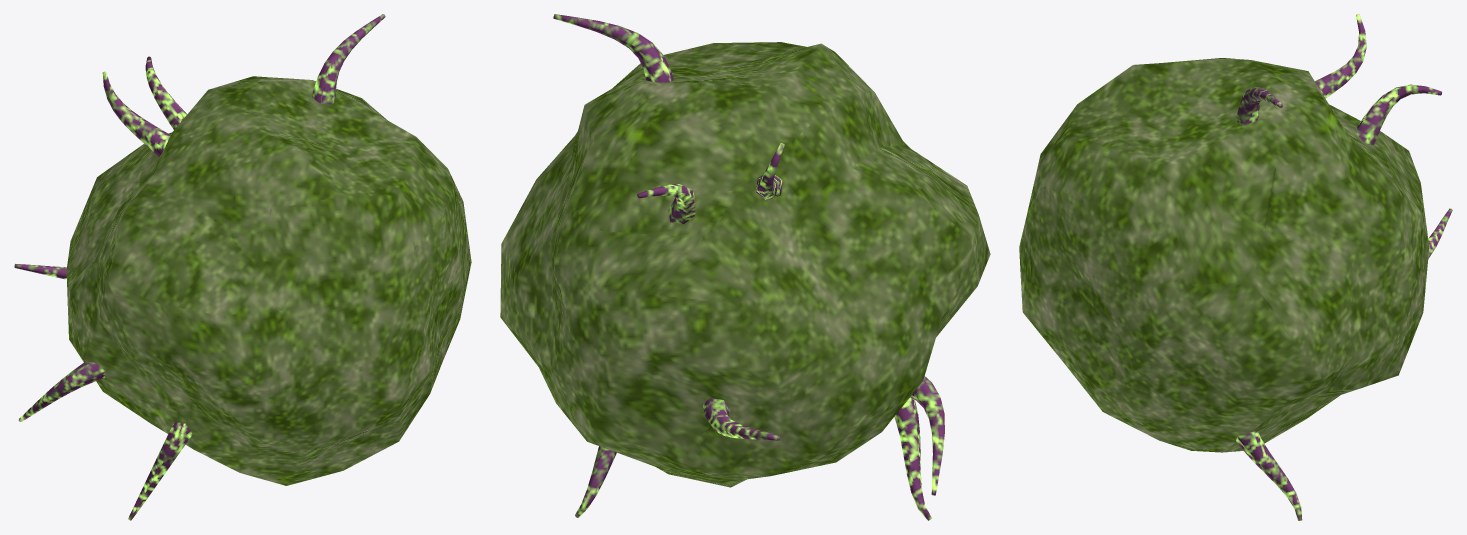
The model's file is spore.glb.
The picture shows the model from 3 angles, left to right: view 1: azimuth 30°, elevation 25°; view 2: azimuth 150°, elevation 25°; view 3: azimuth 270°, elevation 25°; orthographic projection. The views are drawn at different scales.
Parts seen in each view (by area): view 1: spore_aura, spore_tentacles; view 2: spore_aura, spore_tentacles; view 3: spore_aura, spore_tentacles.
Boxes of the visible parts, x1,y1,x2,y2 form: spore_aura: [66, 76, 471, 485]; spore_tentacles: [14, 14, 385, 520]; spore_aura: [500, 42, 990, 487]; spore_tentacles: [553, 14, 944, 520]; spore_aura: [1019, 58, 1429, 452]; spore_tentacles: [1235, 14, 1452, 520].
Size of the model in its own units: 4.33 by 4.54 by 4.13.
4 materials, 4 textured.
